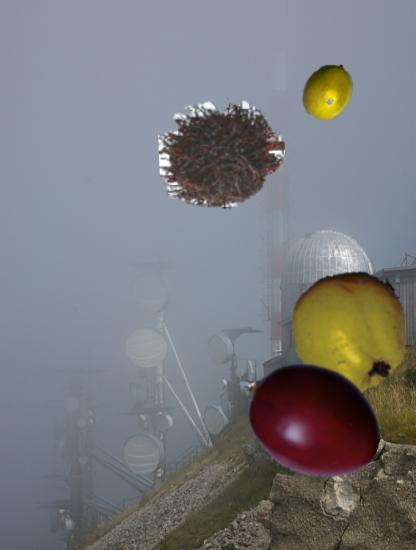Maracuja: (298, 62, 357, 121)
Quince: (291, 268, 414, 391)
Rambutan: (159, 91, 286, 218)
Tamarillo: (236, 346, 384, 494)
